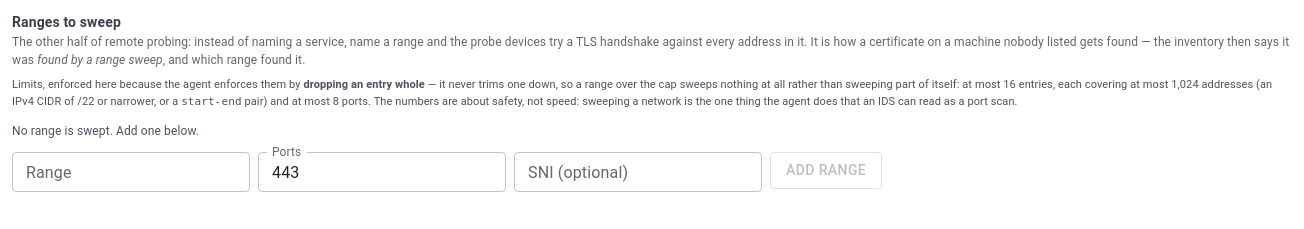
Test: caps › refuses a /16 before it is ever sent to the server
Expected: the text "No range is swept. Add one below." is shown, [12,124,199,138]
Type "10.0.0.0/16" into the field labelled "Range".
click(131, 172); type("10.0.0.0/16")  # box [12,152,250,192]
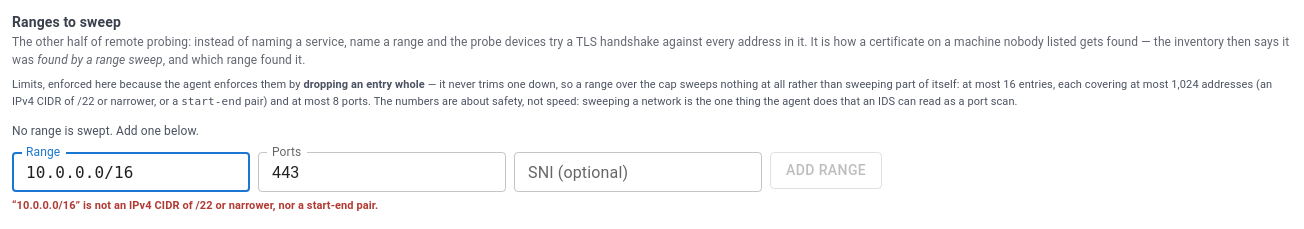
Expected: the button "Add range" is disabled, [770,152,882,188]
Result: the text "is not an IPv4 CIDR of /22 or narrower" is shown at [12,199,378,212]
